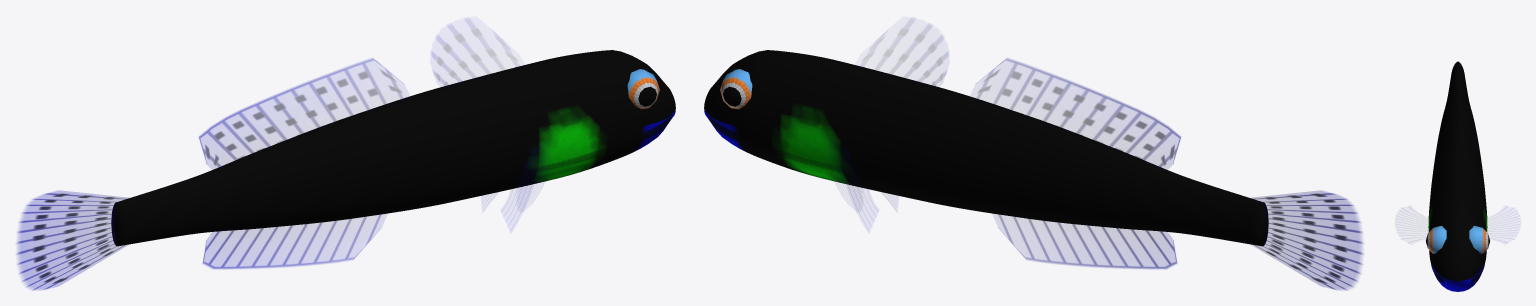
Rendered from diamond_goby.glb.
3 renders of one model, left to right at view 1: azimuth 30°, elevation 25°; view 2: azimuth 150°, elevation 25°; view 3: azimuth 270°, elevation 25°, orthographic. The views are drawn at different scales.
Visible parts, largest first — view 1: Body, FinCaudal, FinDorsal2, FinAnal, FinDorsal, EyeR; view 2: Body, FinCaudal, FinDorsal2, FinAnal, FinDorsal, EyeL; view 3: Body, EyeL, EyeR.
Part boxes in pixels (box(x1,y1,x2,y2)): Body: box(111, 50, 675, 246); FinCaudal: box(16, 190, 128, 290); FinDorsal2: box(199, 58, 404, 169); FinAnal: box(203, 214, 381, 268); FinDorsal: box(431, 19, 519, 86); EyeR: box(627, 69, 659, 109); Body: box(704, 50, 1268, 246); FinCaudal: box(1251, 190, 1363, 290); FinDorsal2: box(975, 58, 1180, 169); FinAnal: box(998, 214, 1176, 268); FinDorsal: box(860, 19, 948, 86); EyeL: box(720, 69, 752, 109); Body: box(1428, 61, 1487, 291); EyeL: box(1469, 226, 1489, 253); EyeR: box(1426, 226, 1446, 253).
Bounding box in the file's own units: 1 × 0.3158 × 0.2355.
4 materials, 3 textured.
